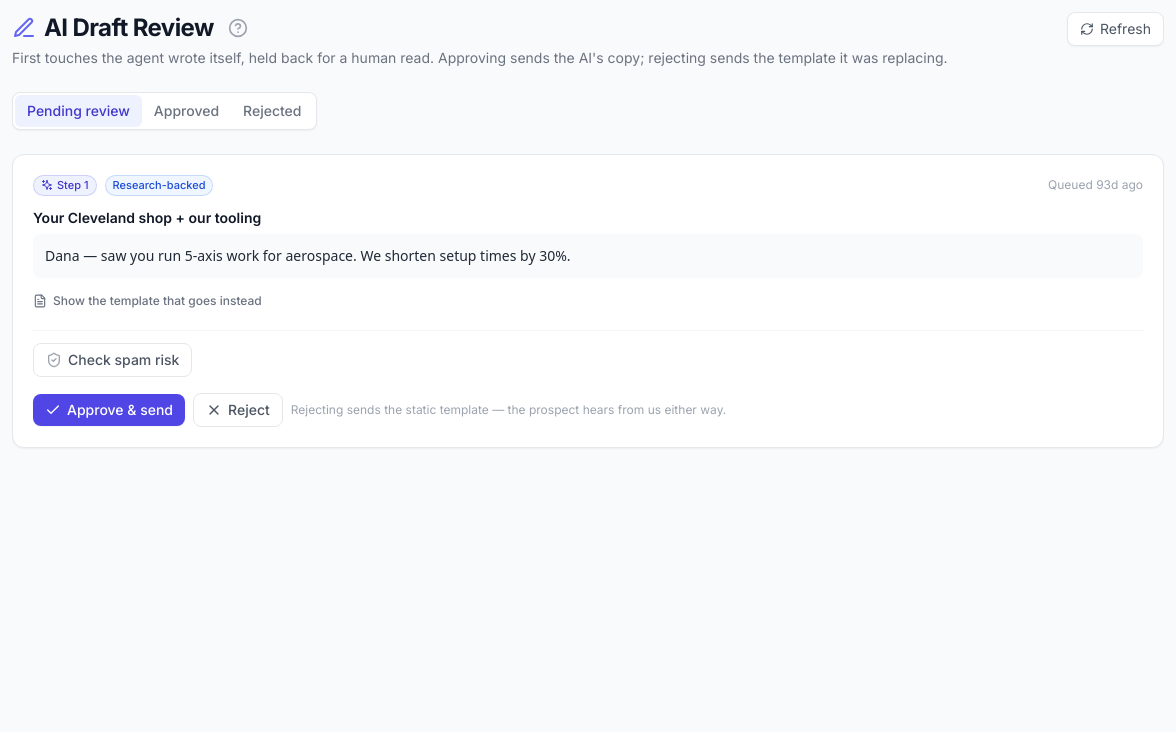
Test case: AiDrafts page › shows the template a rejection would send instead
expect the text "Your Cleveland shop + our tooling" is shown: met, box [33,208,261,226]
expect the text "wanted to reach out about our tooling" is not shown: met
Click the button "Show the template that goes instead" at coordinates (147, 300), box [33,292,262,308]
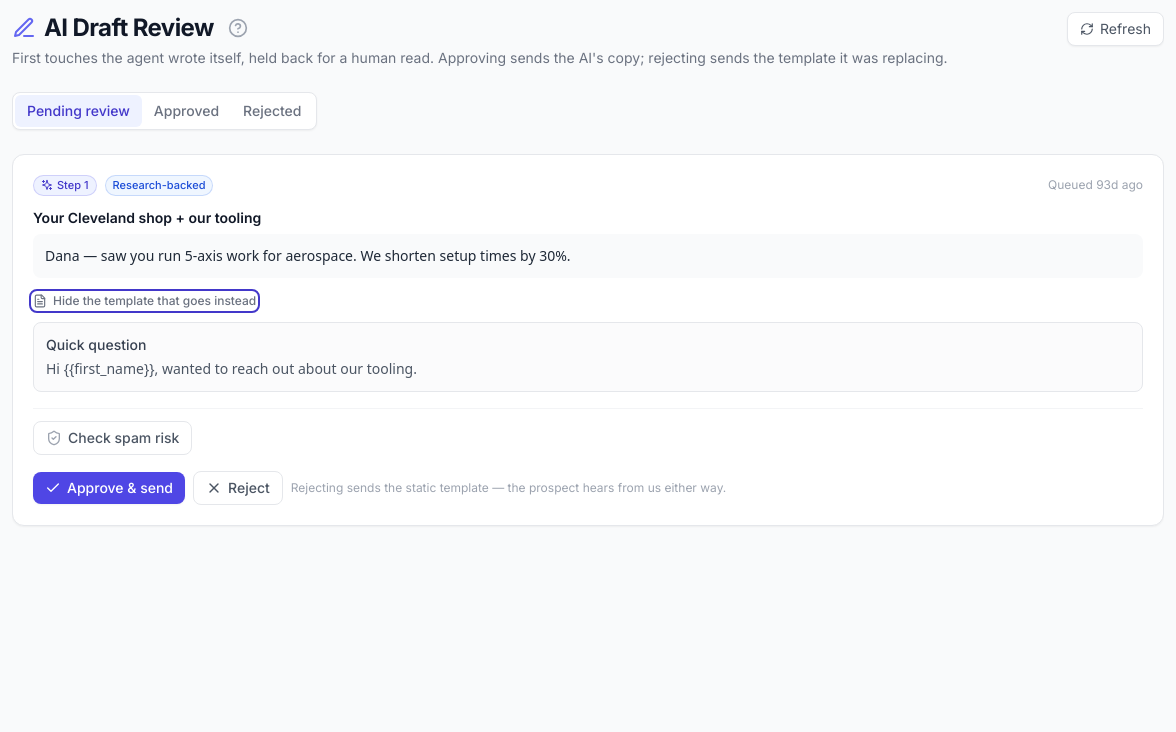
expect the text "Hi {{first_name}}, wanted to reach out about our tooling." is shown: met, box [46,358,417,378]
